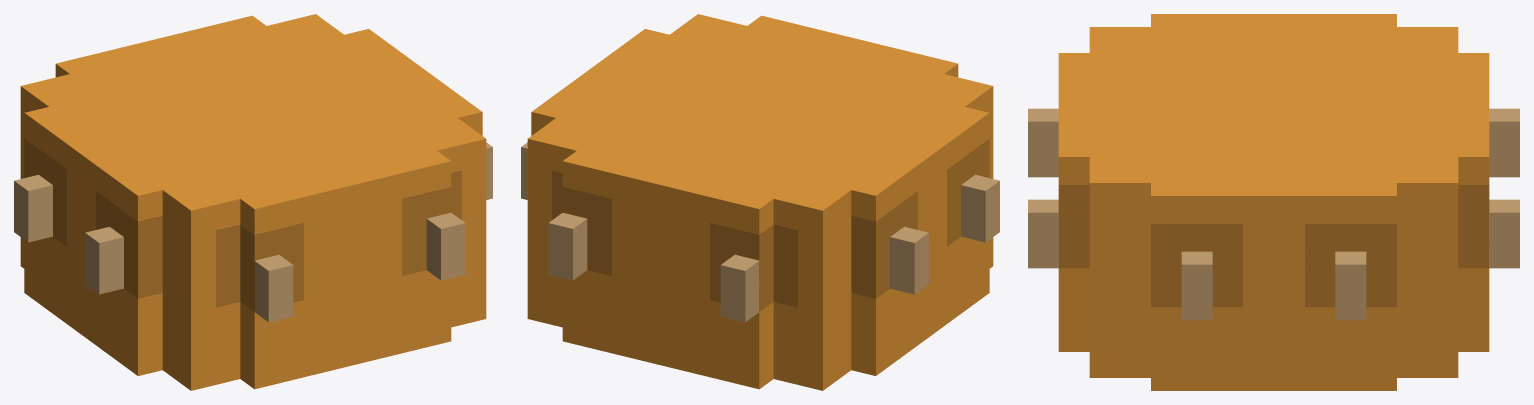
File: Chest_7.fbx
3 views of the same model, side by side, from view 1: azimuth 30°, elevation 25°; view 2: azimuth 150°, elevation 25°; view 3: azimuth 270°, elevation 25° (orthographic). The views are drawn at different scales.
Parts seen in each view (by area): view 1: Chest_7; view 2: Chest_7; view 3: Chest_7.
Boxes of the visible parts, left/top/right/bottom form: Chest_7: left=14, top=14, right=492, bottom=390; Chest_7: left=521, top=14, right=999, bottom=390; Chest_7: left=1028, top=14, right=1519, bottom=390.
Size of the model in its own units: 16 by 7 by 16.
1 material, 1 textured.
